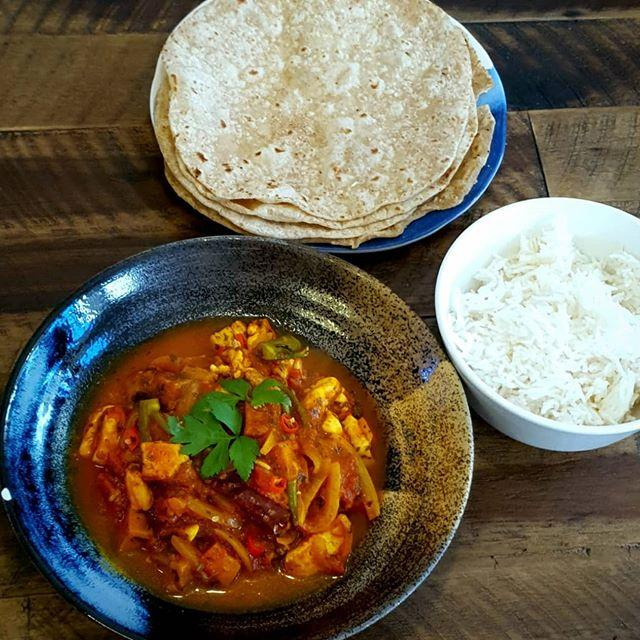Roti: (148, 7, 491, 242)
White Rice: (452, 221, 634, 448)
